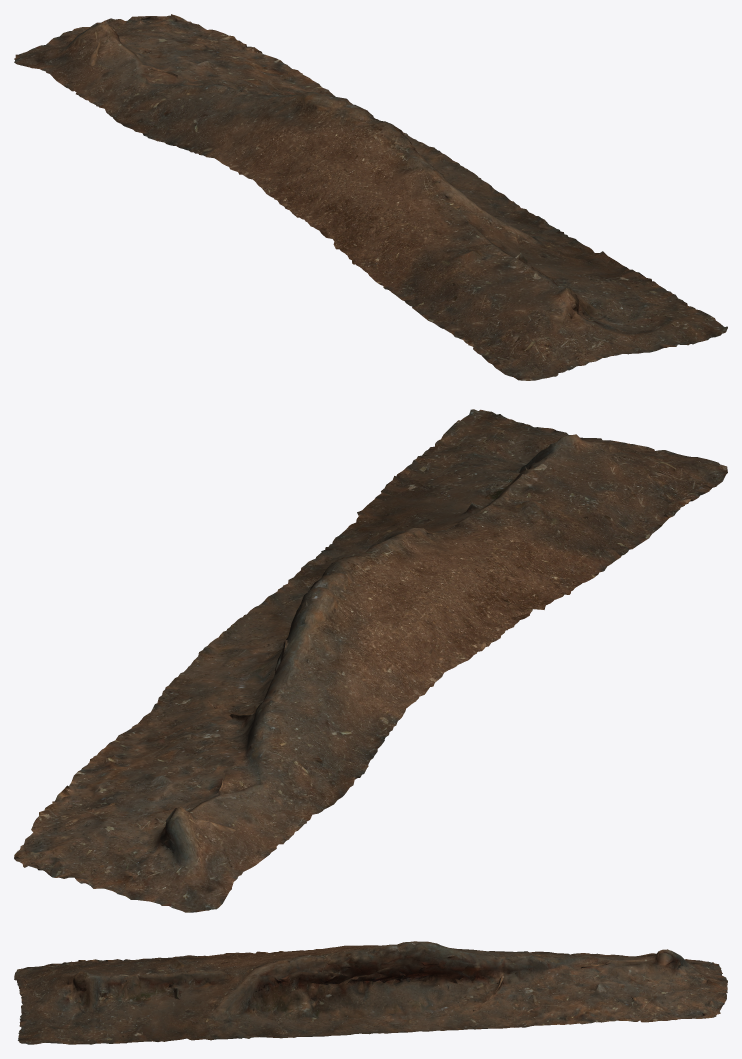
File: driftwood.glb
3 views of the same model, one above another, from view 1: azimuth 30°, elevation 25°; view 2: azimuth 150°, elevation 25°; view 3: azimuth 270°, elevation 25° (orthographic). The views are drawn at different scales.
Visible parts, largest first — view 1: driftwood; view 2: driftwood; view 3: driftwood.
Boxes of the visible parts, x1,y1,x2,y2 form: driftwood: (14,14,727,380); driftwood: (14,409,727,912); driftwood: (14,941,727,1044).
Size of the model in its own units: 0.555 by 0.1774 by 1.84.
Materials: 1 (1 with a texture image).
